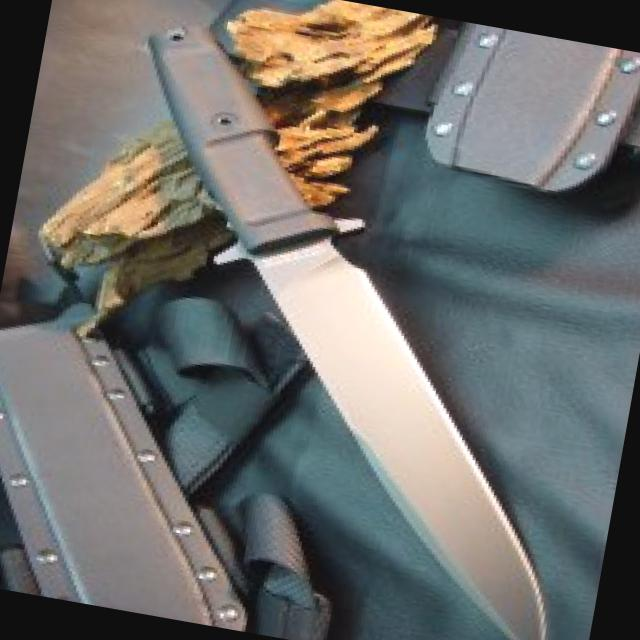knife: (195, 232, 612, 639)
